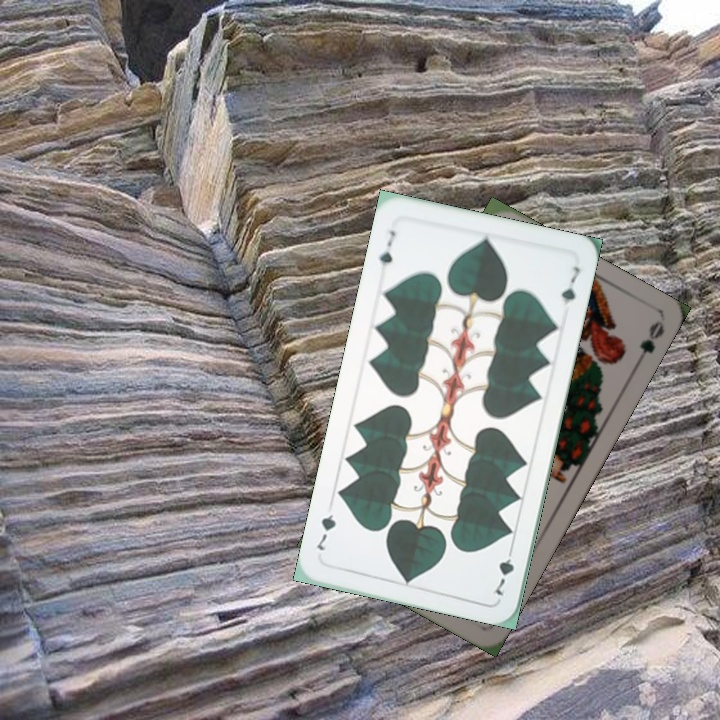G7: (489, 541, 517, 598), (375, 226, 398, 269)
